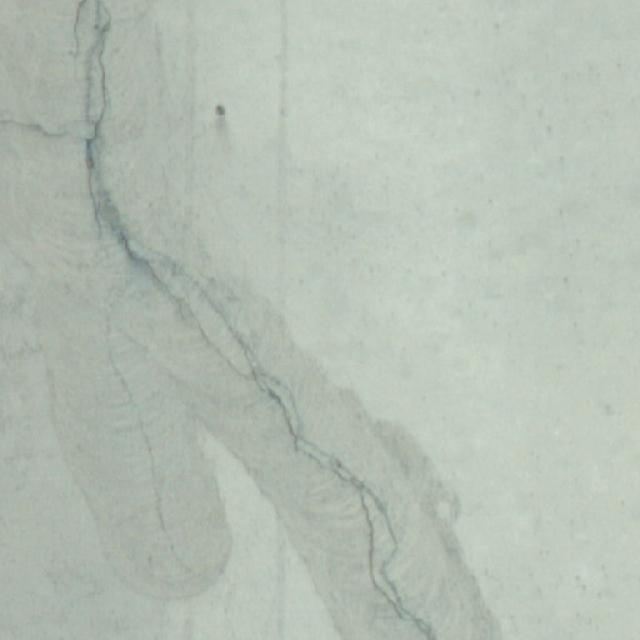Network: (0, 0, 485, 640)
